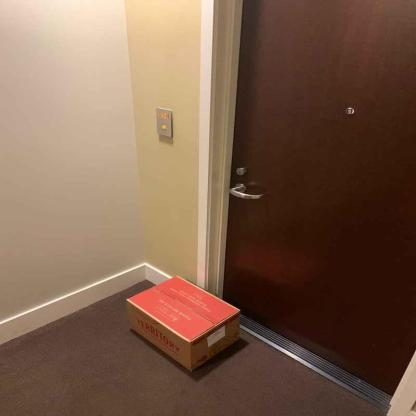label: (205, 325, 227, 346)
package: (126, 272, 242, 371)
